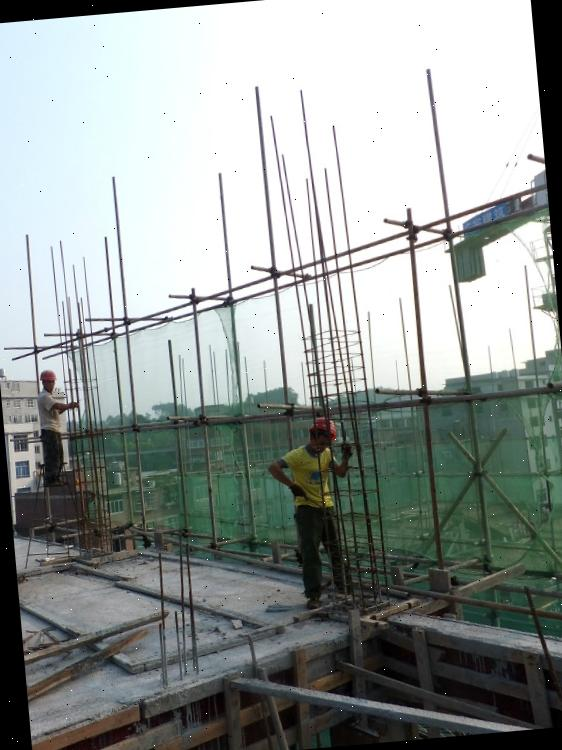helmet: (303, 414, 340, 441), (40, 369, 58, 389)
no_wear: (287, 445, 339, 519), (37, 391, 64, 432)
